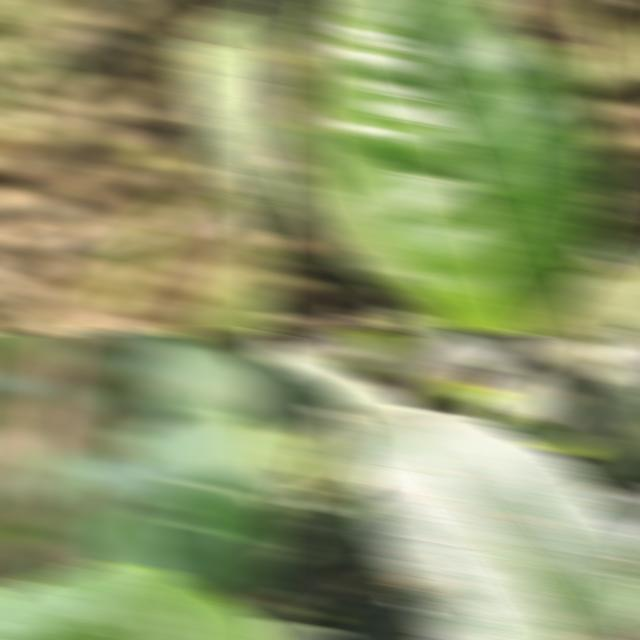Leaf: (302, 0, 609, 334), (344, 407, 640, 640), (71, 406, 278, 547), (0, 560, 276, 640), (124, 339, 269, 415), (570, 334, 640, 488), (258, 358, 344, 475), (183, 231, 278, 334), (88, 226, 184, 312), (532, 272, 640, 334), (580, 219, 640, 289), (578, 0, 627, 85), (309, 413, 360, 472), (613, 9, 640, 74)
